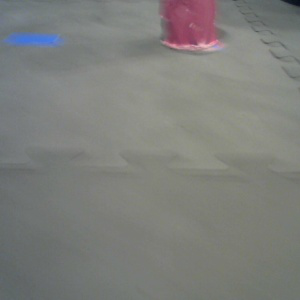Right: (158, 1, 221, 52)
